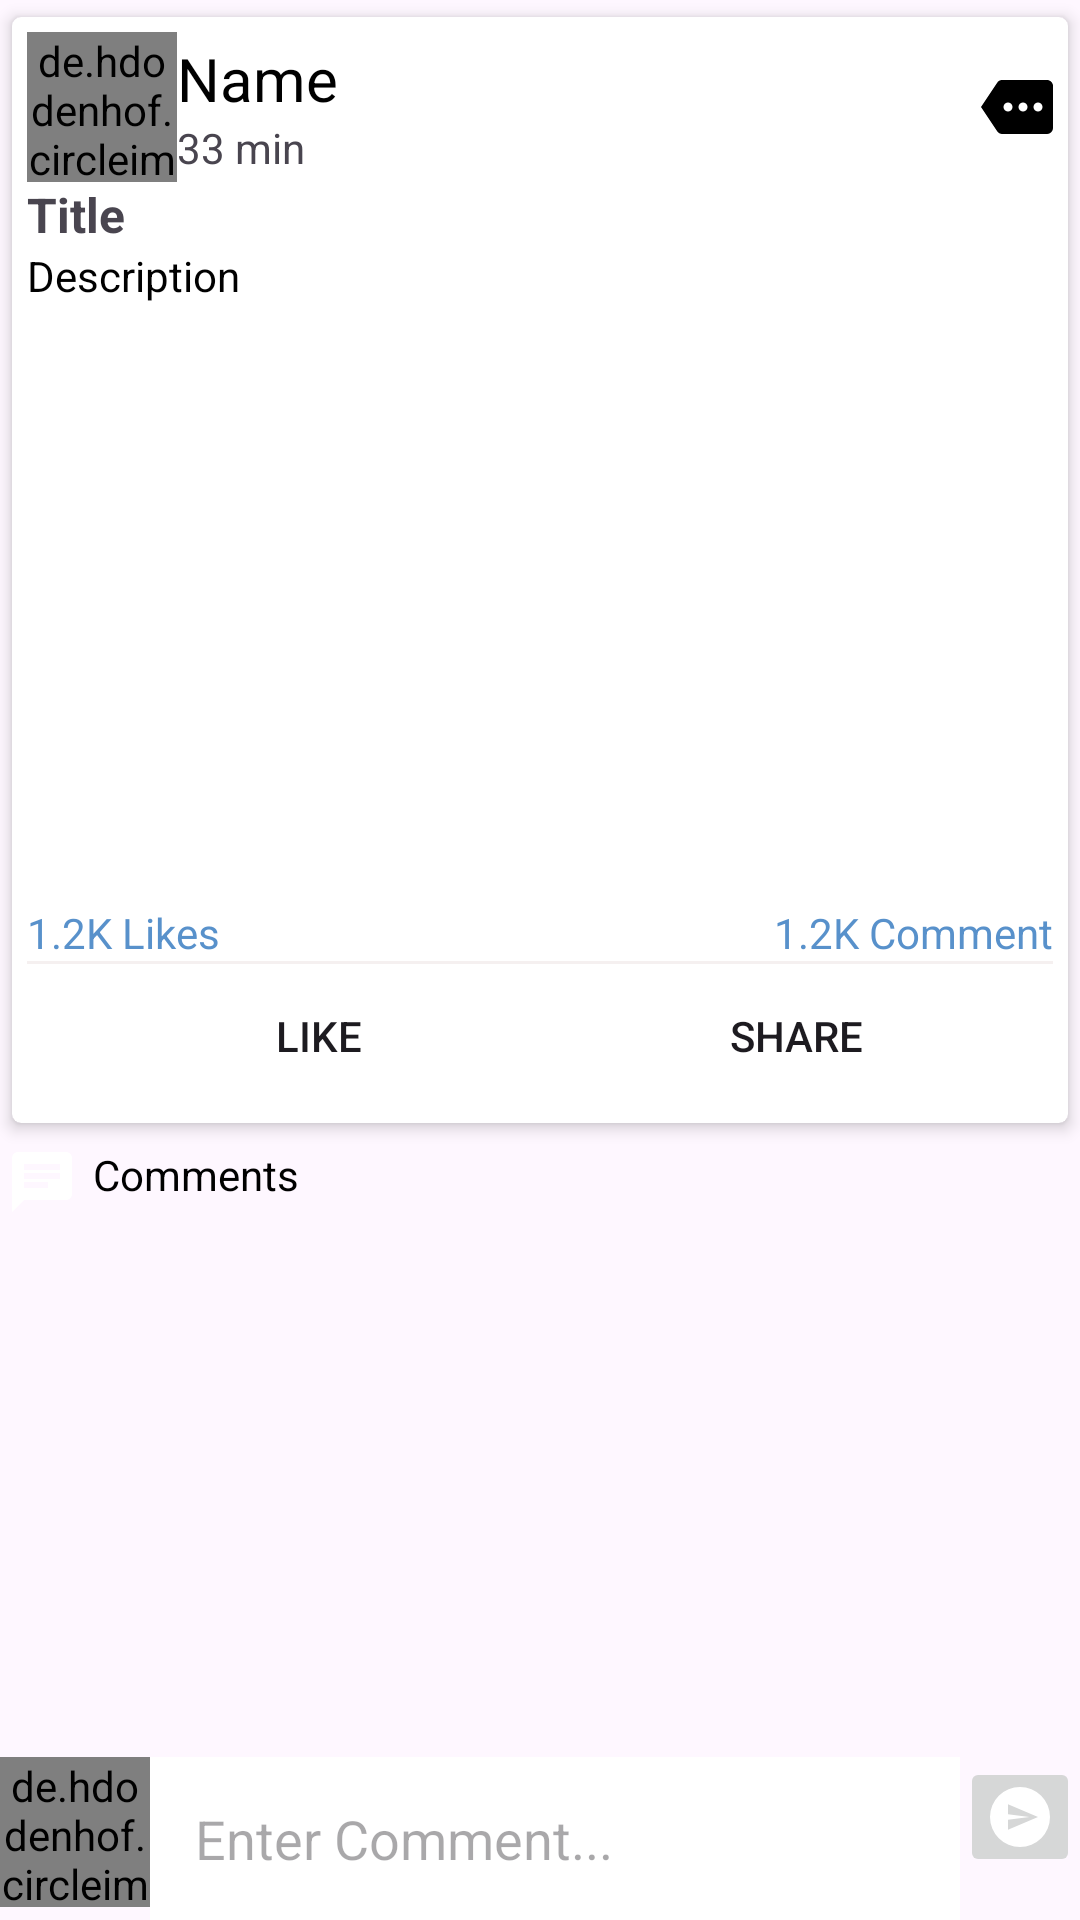

Screen size 1080x1920. Icon name, then its box in pixels as (x1, y1, x2, y2):
more: (981, 80, 1053, 134)
send: (972, 1775, 1068, 1859)
